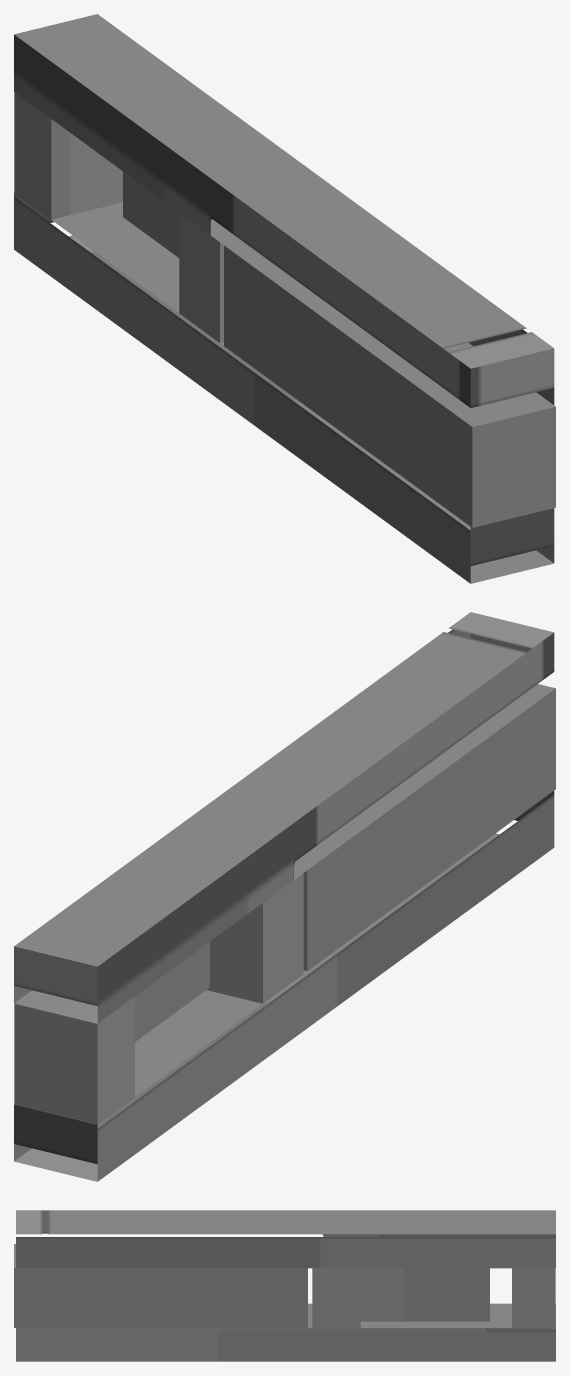
The picture shows the model from 3 angles, top to bottom: view 1: azimuth 30°, elevation 25°; view 2: azimuth 150°, elevation 25°; view 3: azimuth 270°, elevation 25°; orthographic projection. The views are drawn at different scales.
Bounding box in the file's own units: 0.13 × 0.32 × 1.24.
